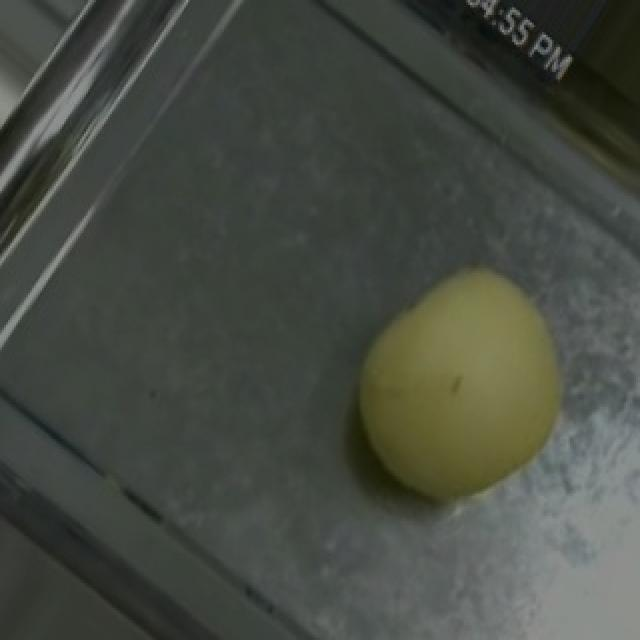Fruit: (314, 231, 610, 543)
